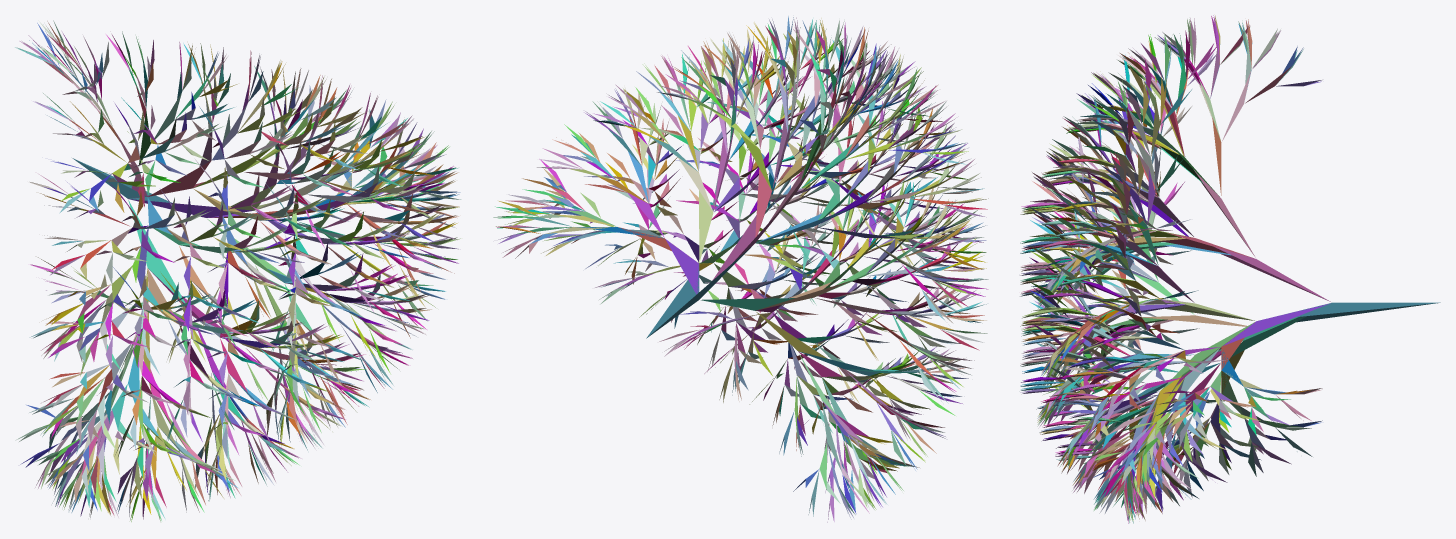
The model's file is tree.glb.
3 views of the same model, side by side, from view 1: azimuth 30°, elevation 25°; view 2: azimuth 150°, elevation 25°; view 3: azimuth 270°, elevation 25° (orthographic). The views are drawn at different scales.
Parts seen in each view (by area): view 1: world; view 2: world; view 3: world.
Boxes of the visible parts, x1,y1,x2,y2 form: world: (15,20,461,521); world: (493,16,988,522); world: (1020,15,1440,523).
Size of the model in its own units: 4.63 by 4.74 by 3.86.
